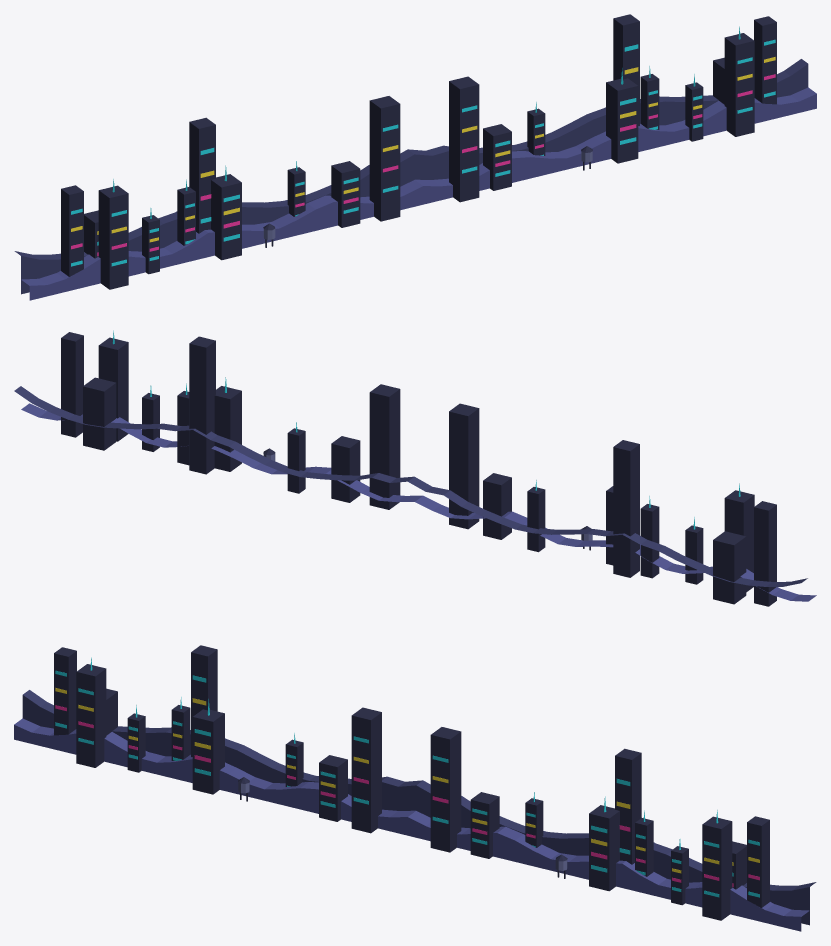
The model's file is backdrop_neon.glb.
The picture shows the model from 3 angles, top to bottom: view 1: azimuth 30°, elevation 25°; view 2: azimuth 150°, elevation 25°; view 3: azimuth 330°, elevation 25°; orthographic projection.
Visible parts, largest first — view 1: backdrop_neon; view 2: backdrop_neon; view 3: backdrop_neon.
Boxes of the visible parts, x1,y1,x2,y2 form: backdrop_neon: (14, 14, 816, 300); backdrop_neon: (14, 330, 816, 606); backdrop_neon: (14, 645, 816, 931).
Size of the model in its own units: 260 by 40 by 14.
1 material, 1 textured.
